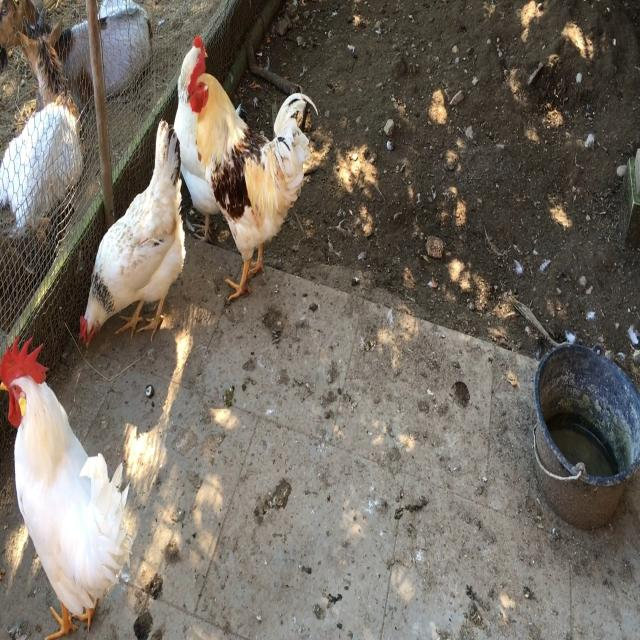chicken: (190, 33, 346, 327), (2, 324, 139, 637), (67, 128, 200, 352)
